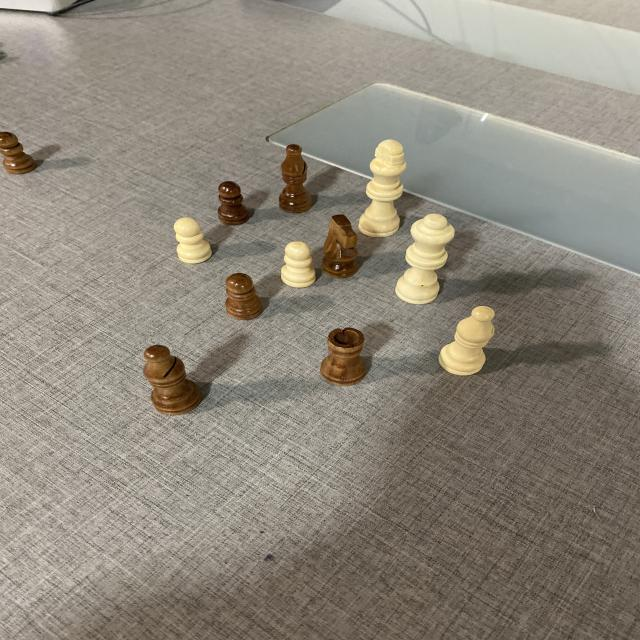Black-Bishop: (141, 343, 205, 418), (276, 143, 316, 214)
Black-Knight: (321, 214, 362, 280)
Black-Pawn: (222, 271, 266, 322), (0, 131, 38, 174), (216, 181, 251, 225)
Black-Rook: (318, 328, 370, 388)
White-Bishop: (439, 306, 498, 376)
White-King: (358, 138, 410, 238)
White-Pawn: (172, 216, 212, 265), (279, 241, 319, 289)
White-Queen: (393, 214, 459, 305)
